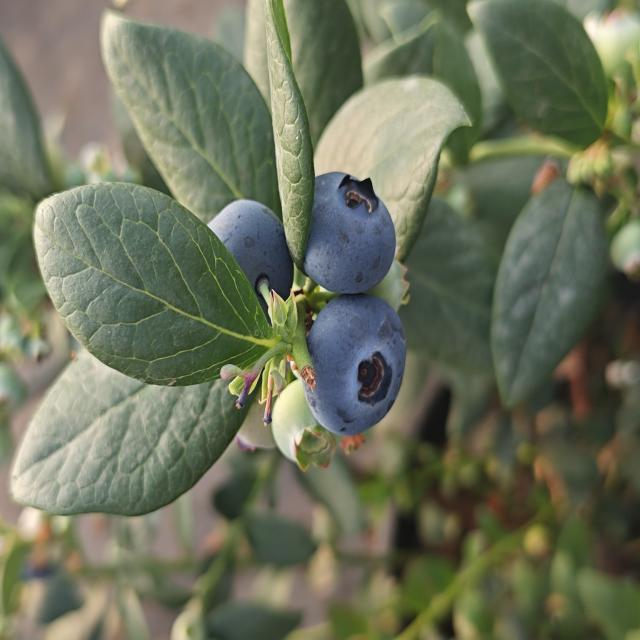ripe: (300, 292, 408, 440), (300, 169, 398, 297), (204, 197, 296, 324)
